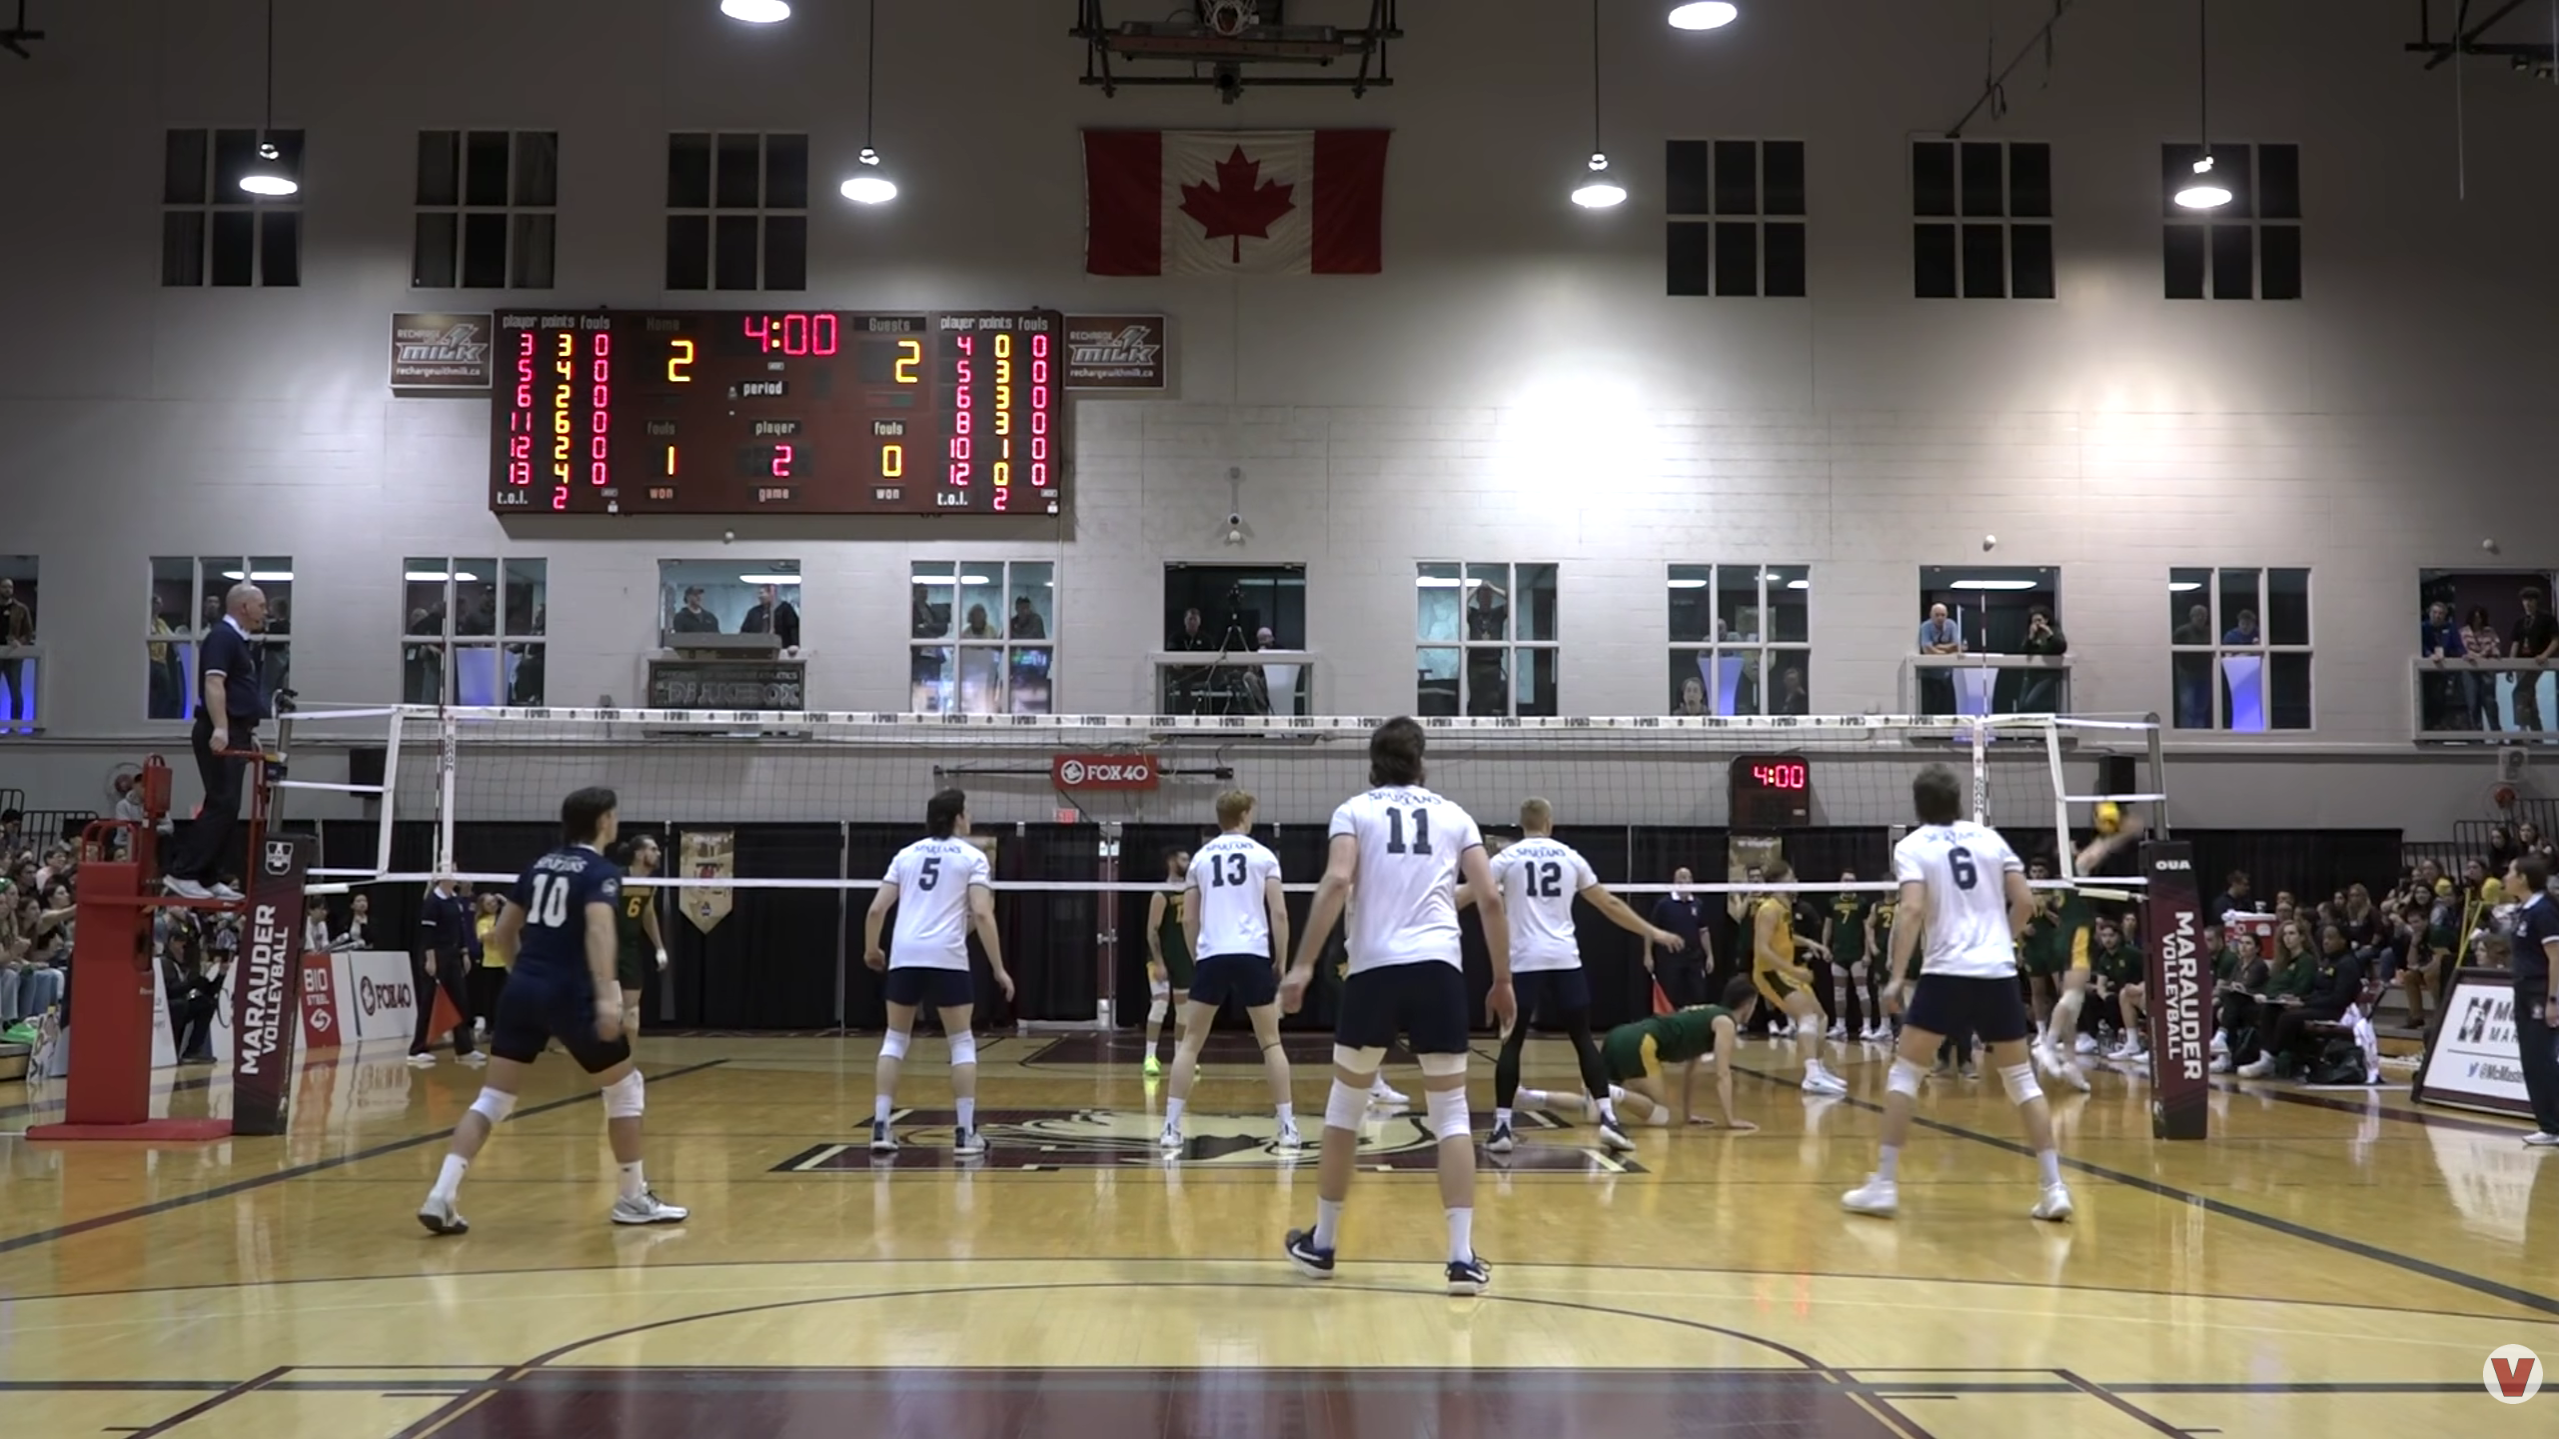Ball: (2090, 801, 2123, 836)
